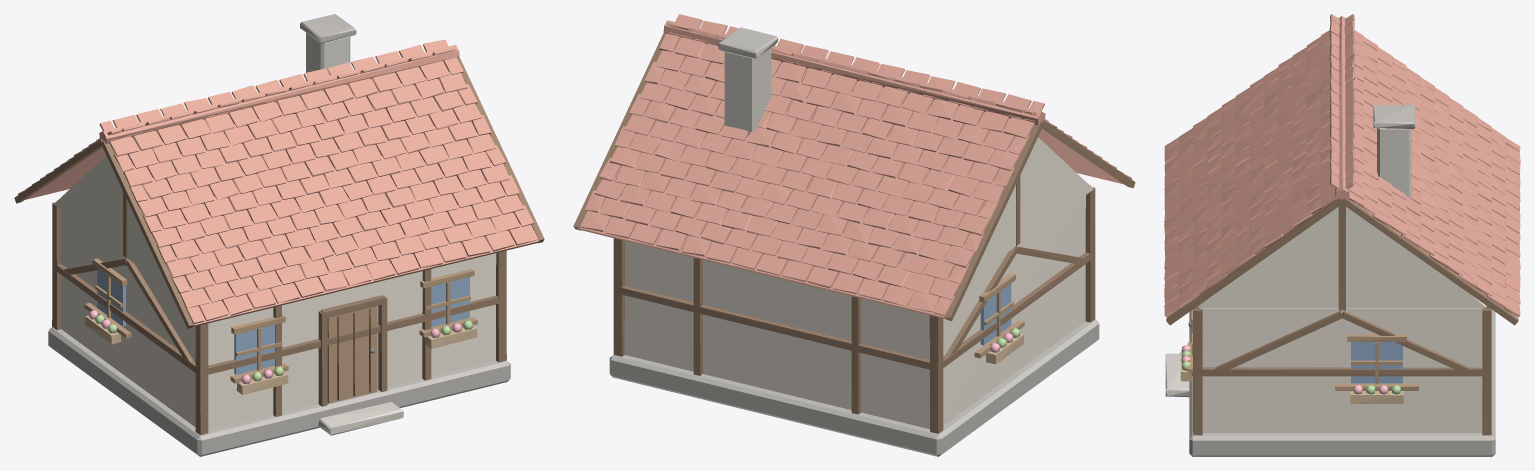
File: prop_house.glb
3 views of the same model, side by side, from view 1: azimuth 30°, elevation 25°; view 2: azimuth 150°, elevation 25°; view 3: azimuth 270°, elevation 25° (orthographic). The views are drawn at different scales.
Visible parts, largest first — view 1: prop_house; view 2: prop_house; view 3: prop_house.
Part boxes in pixels (left/top/right/bottom): prop_house: left=14, top=14, right=544, bottom=456; prop_house: left=573, top=14, right=1135, bottom=456; prop_house: left=1164, top=14, right=1520, bottom=456.
Bounding box in the file's own units: 7.15 × 5.82 × 6.17.
